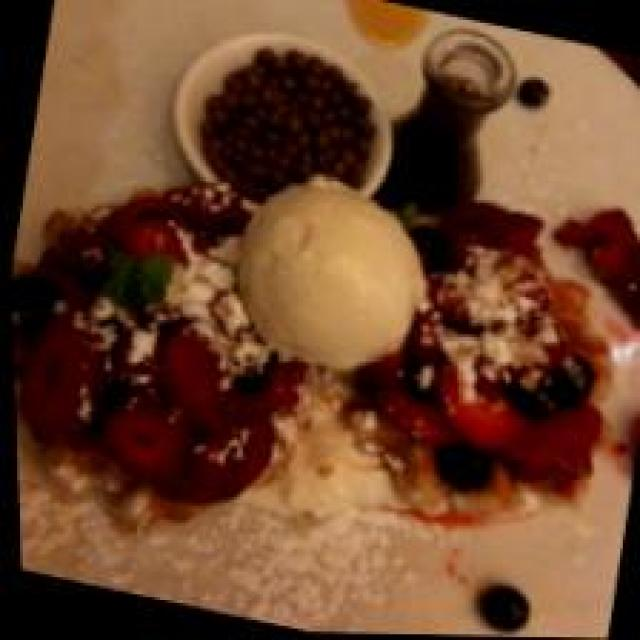Waffles: (3, 109, 640, 628)
